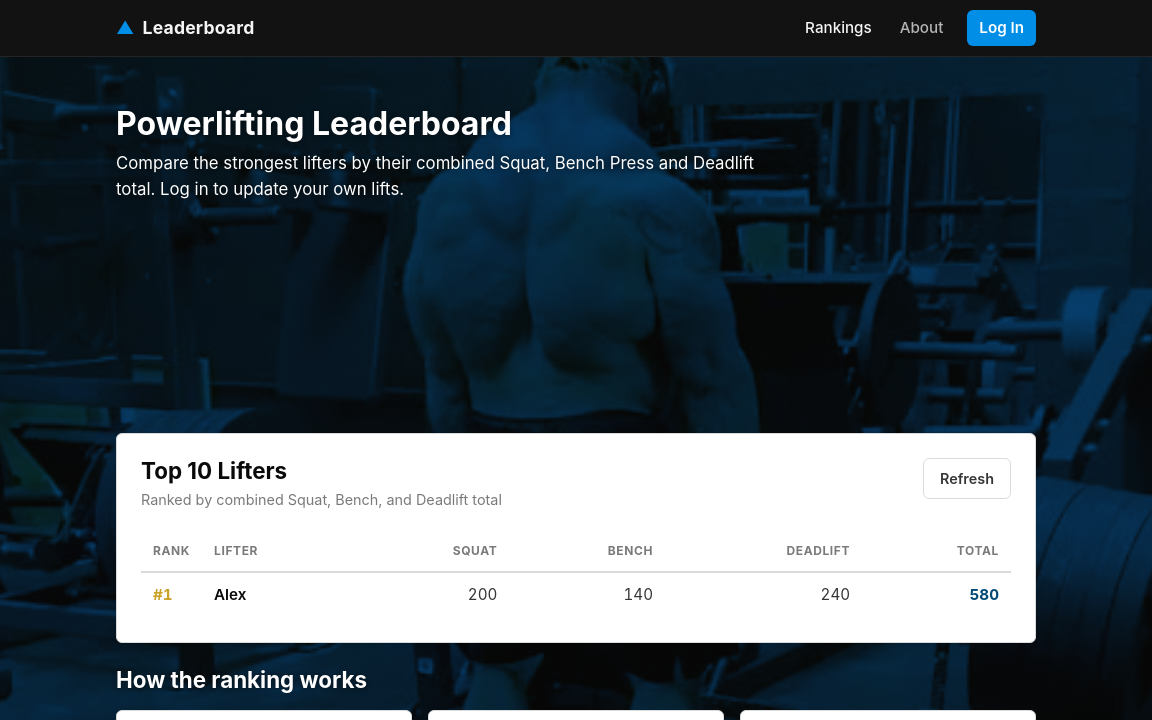
Scenario: App integration › renders Top 10 leaderboard and allows login via the header and updating lifts on the profile page
Check: the text "Alex" is shown, box [214,585,246,604]
Check: the text "580" is shown, box [862,572,1011,618]
Click the link "Log In". click: (1002,28)
box: [967,10,1036,46]
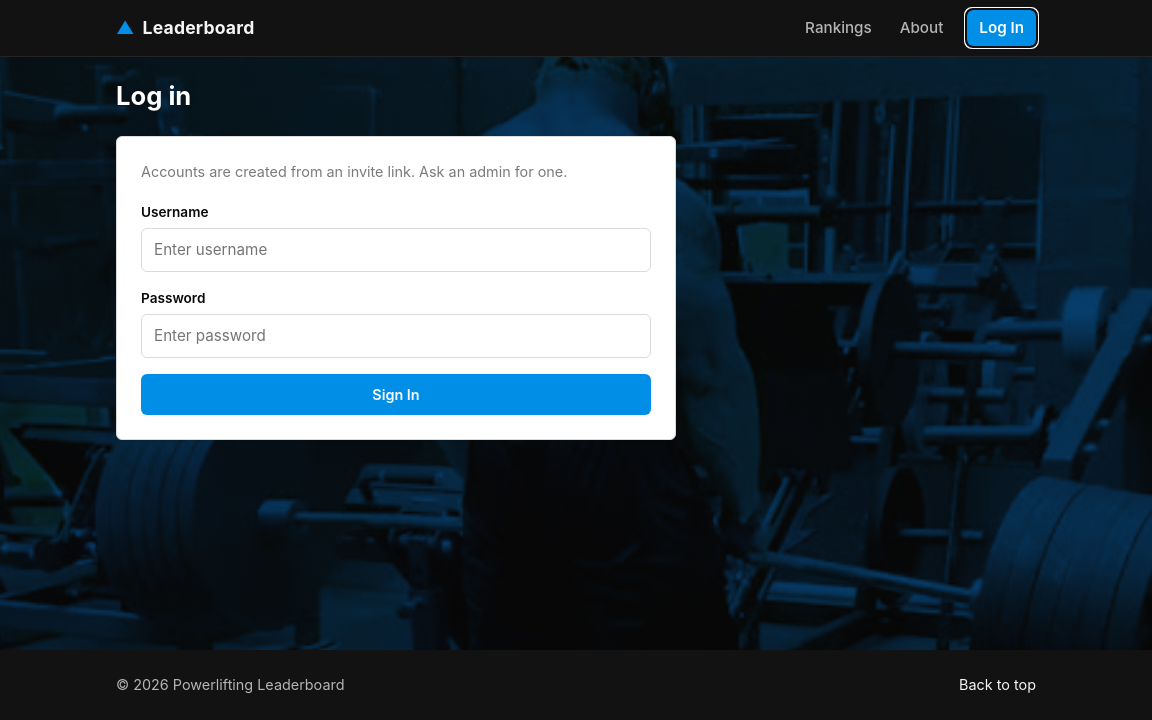
Type "alex99" into the field labelled "Username". click: (396,250)
box: [141,228,651,272]
Type "secret123" into the password field labelled "Password". click: (396,336)
box: [141,314,651,358]
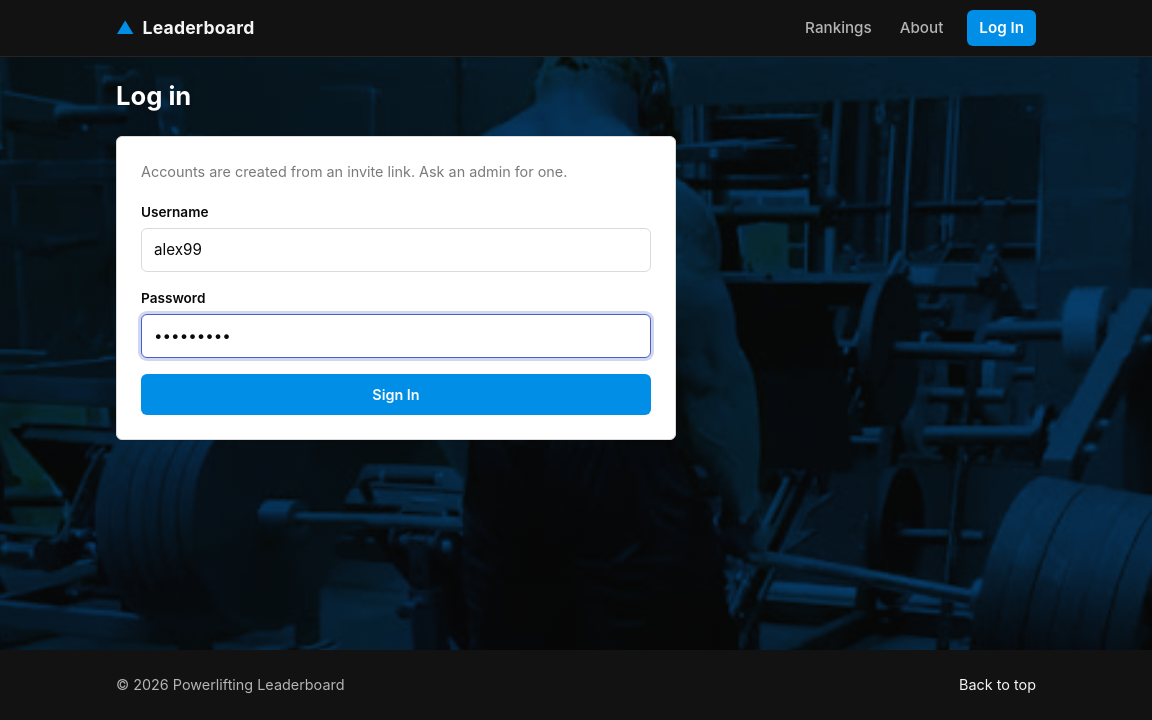
Click the button "Sign In". click: (396,395)
box: [141,374,651,415]
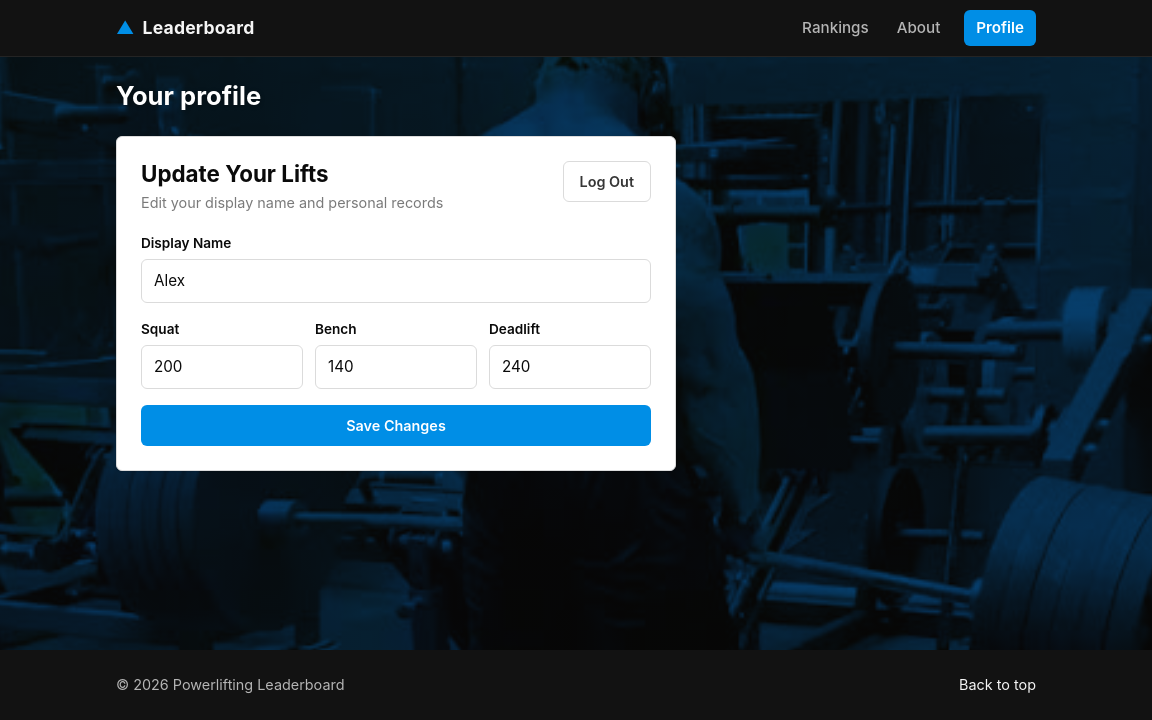
Check: the field labelled "Display Name" holds "Alex", box [141,259,651,303]
Replace the text in the number field labelled "Squat" with "220". click: (222,367)
box: [141,345,303,389]
Replace the text in the field labelled "Display Name" with "Alex Pro". click: (396,281)
box: [141,259,651,303]
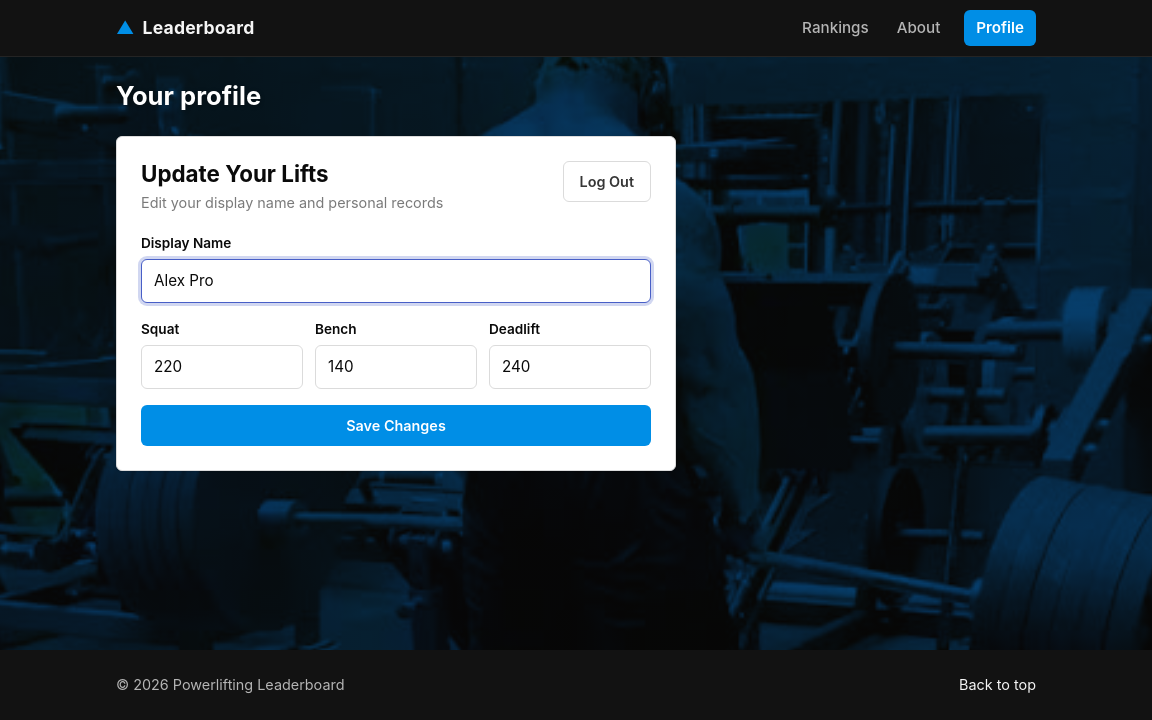
Click the button "Save Changes". click: (396,426)
box: [141,405,651,446]
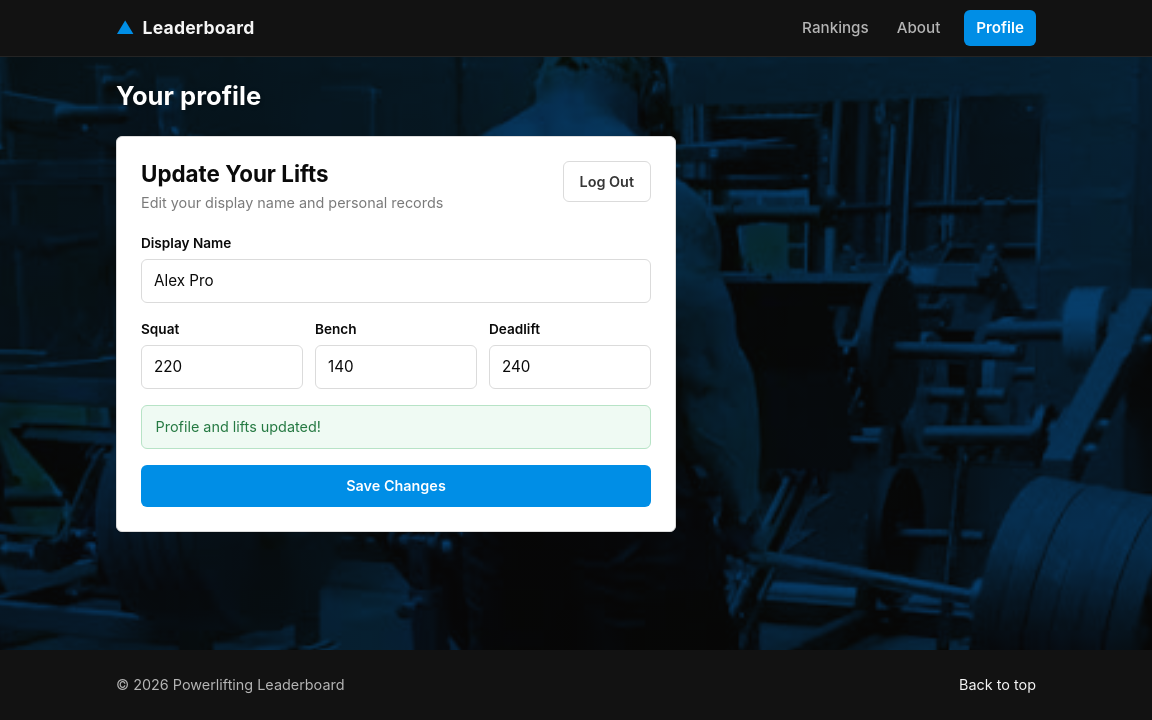
Check: the text "Profile and lifts updated!" is shown, box [141,405,651,450]
Click the link "Rankings". click: (835,27)
box: [802,18,869,37]
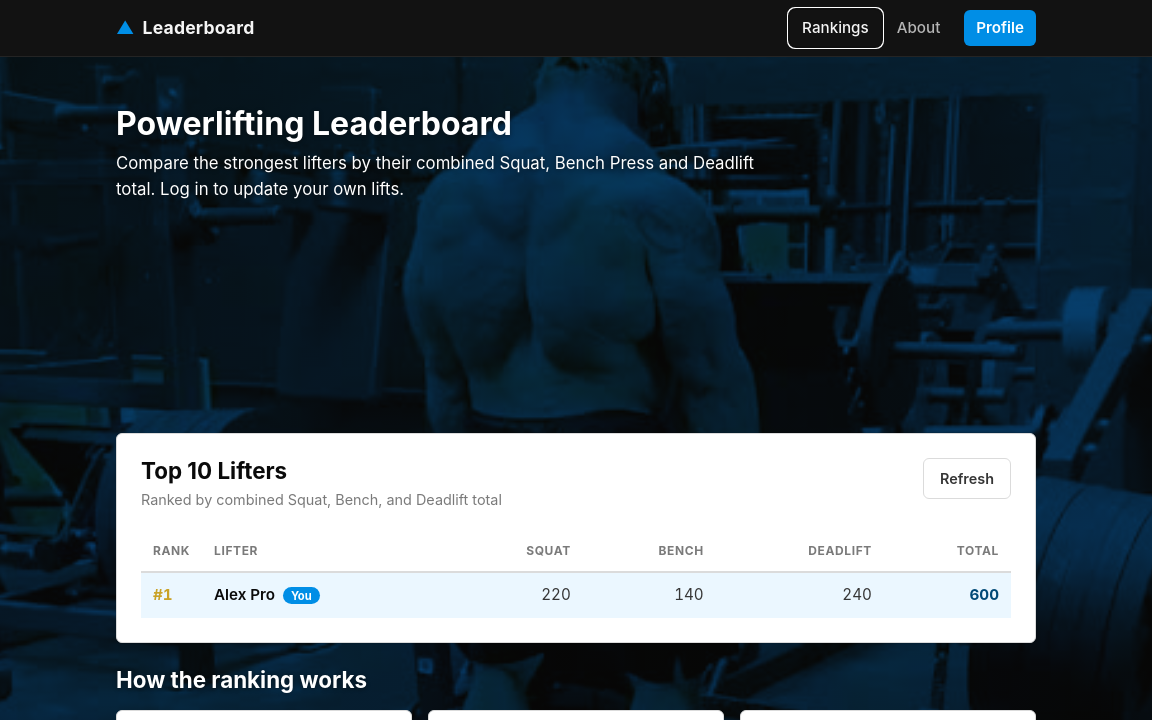
Check: the text "Alex Pro" is shown, box [214,585,275,604]
Check: the text "600" is shown, box [884,572,1011,618]
